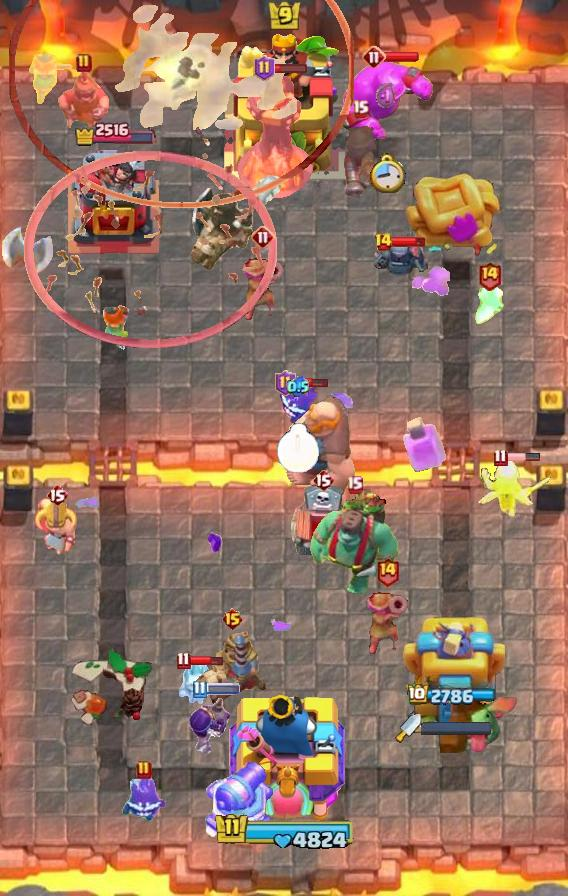balloon: (285, 393, 359, 501)
bar: (401, 611, 505, 731)
barbarian: (471, 282, 507, 328)
bat: (175, 661, 217, 705)
battle-ram: (368, 239, 428, 279)
bomb-tower: (242, 252, 284, 322), (366, 586, 408, 656), (341, 123, 379, 199)
clock: (210, 811, 358, 853)
clone: (339, 59, 435, 145)
earthquake: (58, 64, 110, 128)
electro-dragon: (237, 72, 315, 198)
electro-spirit: (376, 82, 398, 110), (287, 376, 309, 398)
electro-wizard: (440, 691, 522, 753)
elixir: (276, 422, 320, 474), (370, 153, 407, 193)
elixir-golem-mid: (288, 484, 358, 570)
emote: (188, 653, 224, 666), (384, 51, 420, 63), (390, 236, 426, 248), (204, 683, 240, 695), (295, 377, 330, 389), (272, 63, 308, 74), (505, 452, 541, 462)
goblin-ball: (189, 689, 233, 755)
goblin-giant: (34, 497, 80, 557)
hog-rider: (27, 52, 75, 106), (98, 301, 136, 353)
inferno-dragon: (187, 172, 283, 274)
king-tower: (222, 31, 346, 181), (223, 689, 345, 826)
king-tower-bar: (421, 721, 493, 735)
knight-evolution: (403, 416, 447, 473)
lava-hound: (308, 484, 400, 596)
poison: (469, 454, 557, 528)
queen-tower: (64, 146, 164, 256)
ram-rider: (193, 626, 271, 706)
royal-ghost: (10, 0, 355, 208)
royal-giant: (0, 208, 54, 276)
royal-recruit: (201, 761, 277, 845)
selected: (73, 121, 155, 148), (408, 685, 498, 708)
skeleton-barrel: (24, 126, 277, 350)
spear-goblin: (118, 777, 170, 821), (277, 381, 319, 427)
text: (477, 261, 502, 292), (376, 557, 401, 588), (362, 45, 386, 69), (251, 225, 275, 249), (221, 607, 244, 631), (254, 55, 275, 81), (275, 370, 296, 396), (312, 468, 334, 492), (46, 483, 68, 507), (374, 232, 393, 252), (351, 99, 369, 118), (345, 475, 362, 494), (76, 53, 92, 73), (136, 760, 152, 780), (493, 449, 508, 468), (193, 680, 208, 699), (177, 651, 192, 669)
